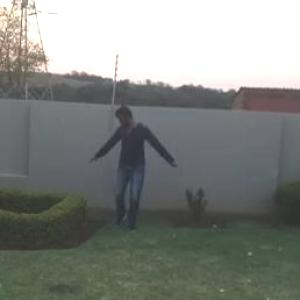land: (79, 100, 185, 247)
